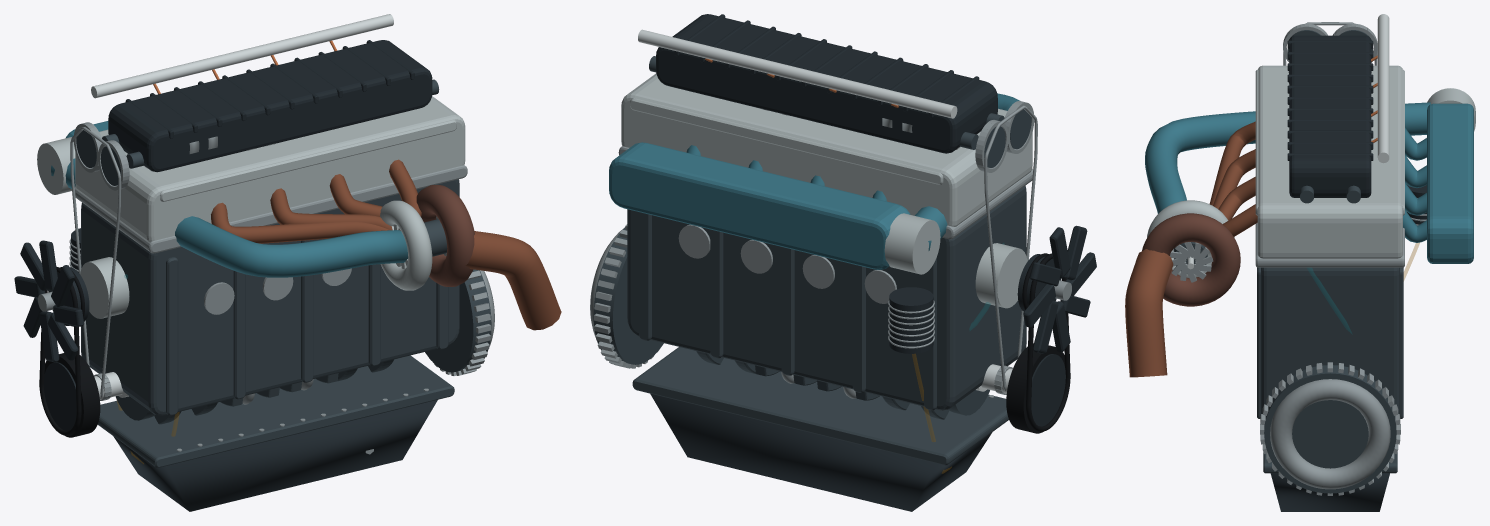
File: semantic-engine.glb
3 renders of one model, left to right at view 1: azimuth 30°, elevation 25°; view 2: azimuth 150°, elevation 25°; view 3: azimuth 270°, elevation 25°, orthographic. The views are drawn at different scales.
Visible parts, largest first — view 1: structural-solid__engine-block__001, structural-solid__cylinder-head__002, structural-solid__cylinder-head__001, structural-solid__oil-pan__001, structural-solid__oil-pan__002, structural-solid__intake-manifold__007, structural-solid__exhaust-manifold__005, structural-solid__injector__001, structural-solid__turbocharger__001, structural-solid__cylinder-head__015, structural-solid__engine-block__020, structural-solid__turbocharger__002 (+22 smaller); view 2: structural-solid__engine-block__001, structural-solid__cylinder-head__002, structural-solid__cylinder-head__001, structural-solid__intake-manifold__001, structural-solid__oil-pan__001, structural-solid__oil-pan__002, structural-solid__injector__001, structural-solid__cylinder-head__014, dynamic-mechanism__flywheel__001, structural-solid__intake-manifold__006, structural-solid__oil-system__001, structural-solid__cooling-system__001 (+25 smaller); view 3: structural-solid__cylinder-head__001, structural-solid__engine-block__001, structural-solid__cylinder-head__002, structural-solid__intake-manifold__001, dynamic-mechanism__flywheel__001, dynamic-mechanism__flywheel__002, structural-solid__intake-manifold__007, structural-solid__turbocharger__001, structural-solid__exhaust-manifold__005, structural-solid__oil-pan__002, structural-solid__injector__001, structural-solid__engine-block__020 (+13 smaller).
Boxes of the visible parts, x1,y1,x2,y2 form: structural-solid__engine-block__001: (81, 179, 459, 415); structural-solid__cylinder-head__002: (108, 40, 432, 172); structural-solid__cylinder-head__001: (75, 96, 465, 241); structural-solid__oil-pan__001: (98, 355, 454, 467); structural-solid__oil-pan__002: (113, 400, 437, 511); structural-solid__intake-manifold__007: (51, 158, 407, 277); structural-solid__exhaust-manifold__005: (465, 231, 561, 330); structural-solid__injector__001: (91, 14, 393, 98); structural-solid__turbocharger__001: (416, 185, 474, 286); structural-solid__cylinder-head__015: (160, 120, 456, 201); structural-solid__engine-block__020: (74, 165, 467, 253); structural-solid__turbocharger__002: (380, 200, 432, 290); structural-solid__engine-block__001: (627, 186, 1026, 410); structural-solid__cylinder-head__002: (656, 14, 997, 153); structural-solid__cylinder-head__001: (621, 73, 1032, 226); structural-solid__intake-manifold__001: (609, 142, 910, 269); structural-solid__oil-pan__001: (632, 347, 1008, 465); structural-solid__oil-pan__002: (650, 393, 992, 511); structural-solid__injector__001: (638, 29, 957, 118); structural-solid__cylinder-head__014: (630, 98, 943, 184); dynamic-mechanism__flywheel__001: (593, 227, 663, 364); structural-solid__intake-manifold__006: (884, 213, 940, 274); structural-solid__oil-system__001: (889, 287, 933, 353); structural-solid__cooling-system__001: (975, 243, 1027, 308); structural-solid__cylinder-head__001: (1257, 65, 1402, 258); structural-solid__engine-block__001: (1261, 267, 1399, 414); structural-solid__cylinder-head__002: (1289, 35, 1371, 197); structural-solid__intake-manifold__001: (1427, 103, 1473, 263); dynamic-mechanism__flywheel__001: (1264, 365, 1396, 493); dynamic-mechanism__flywheel__002: (1270, 379, 1390, 489); structural-solid__intake-manifold__007: (1145, 102, 1430, 213); structural-solid__turbocharger__001: (1142, 213, 1240, 306); structural-solid__exhaust-manifold__005: (1125, 249, 1173, 377); structural-solid__oil-pan__002: (1270, 473, 1389, 511); structural-solid__injector__001: (1377, 14, 1389, 163); structural-solid__engine-block__020: (1255, 223, 1404, 267).
Size of what is drawn, in the model's own units: 7.23 by 6.44 by 5.4.
